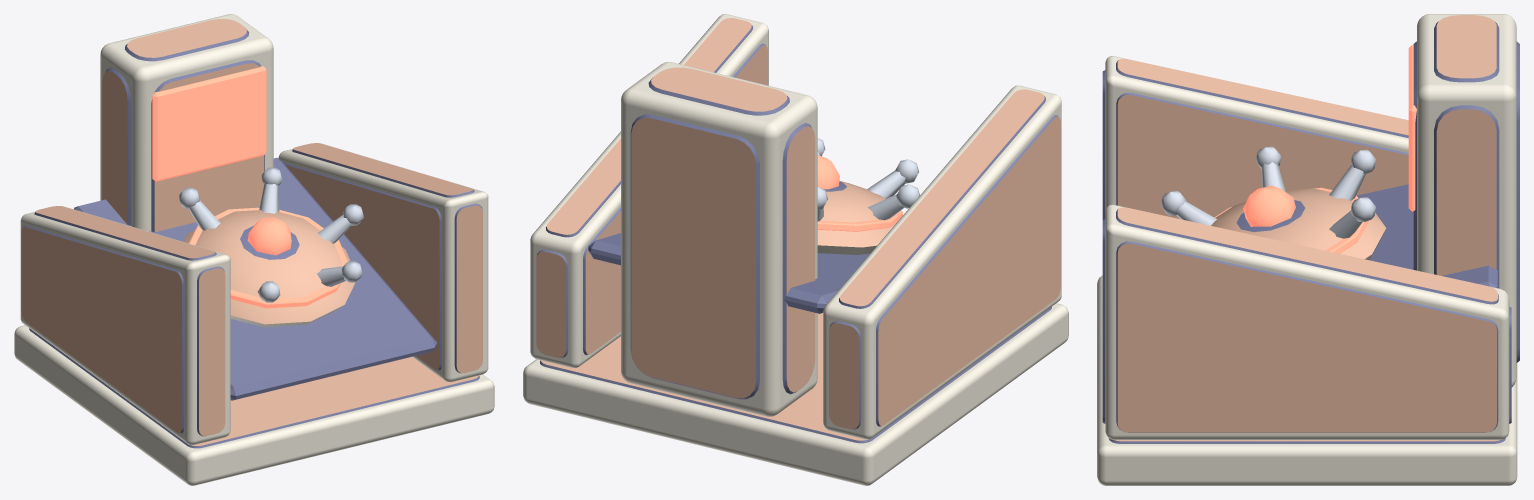
File: R4X_ExplosiveTrapDeployer.fbx
The picture shows the model from 3 angles, left to right: view 1: azimuth 30°, elevation 25°; view 2: azimuth 150°, elevation 25°; view 3: azimuth 270°, elevation 25°; orthographic projection. The views are drawn at different scales.
Parts seen in each view (by area): view 1: R4X_ExplosiveTrapDeployer_Body, R4X_ExplosiveTrapDeployer_Payload; view 2: R4X_ExplosiveTrapDeployer_Body, R4X_ExplosiveTrapDeployer_Payload; view 3: R4X_ExplosiveTrapDeployer_Body, R4X_ExplosiveTrapDeployer_Payload.
Part boxes in pixels (x1,y1,x2,y2): R4X_ExplosiveTrapDeployer_Body: (14, 14, 494, 485); R4X_ExplosiveTrapDeployer_Payload: (179, 167, 363, 327); R4X_ExplosiveTrapDeployer_Body: (523, 14, 1068, 485); R4X_ExplosiveTrapDeployer_Payload: (817, 138, 919, 254); R4X_ExplosiveTrapDeployer_Body: (1097, 14, 1519, 485); R4X_ExplosiveTrapDeployer_Payload: (1161, 146, 1386, 260).
Size of the model in its own units: 0.514 by 0.48 by 0.517.
